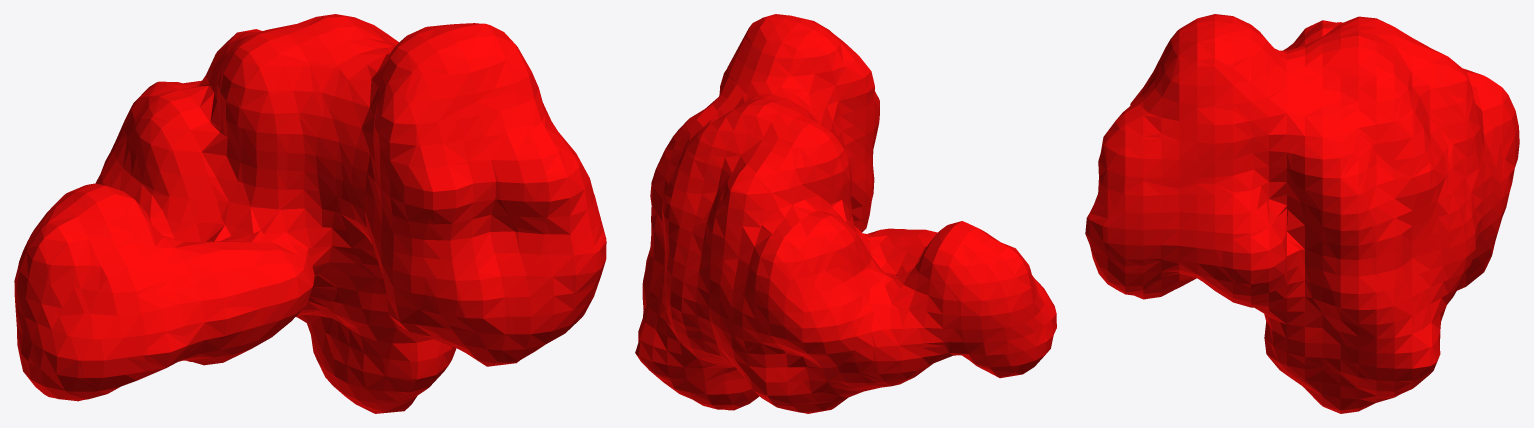
File: yjcZ_coarse.dae
3 views of the same model, side by side, from view 1: azimuth 30°, elevation 25°; view 2: azimuth 150°, elevation 25°; view 3: azimuth 270°, elevation 25° (orthographic). The views are drawn at different scales.
Visible parts, largest first — view 1: yjcZ; view 2: yjcZ; view 3: yjcZ.
Part boxes in pixels (<box>): yjcZ: <box>14,14,606,413</box>; yjcZ: <box>635,14,1056,413</box>; yjcZ: <box>1085,14,1519,413</box>.
Bounding box in the file's own units: 67.3 × 57.17 × 58.34.
